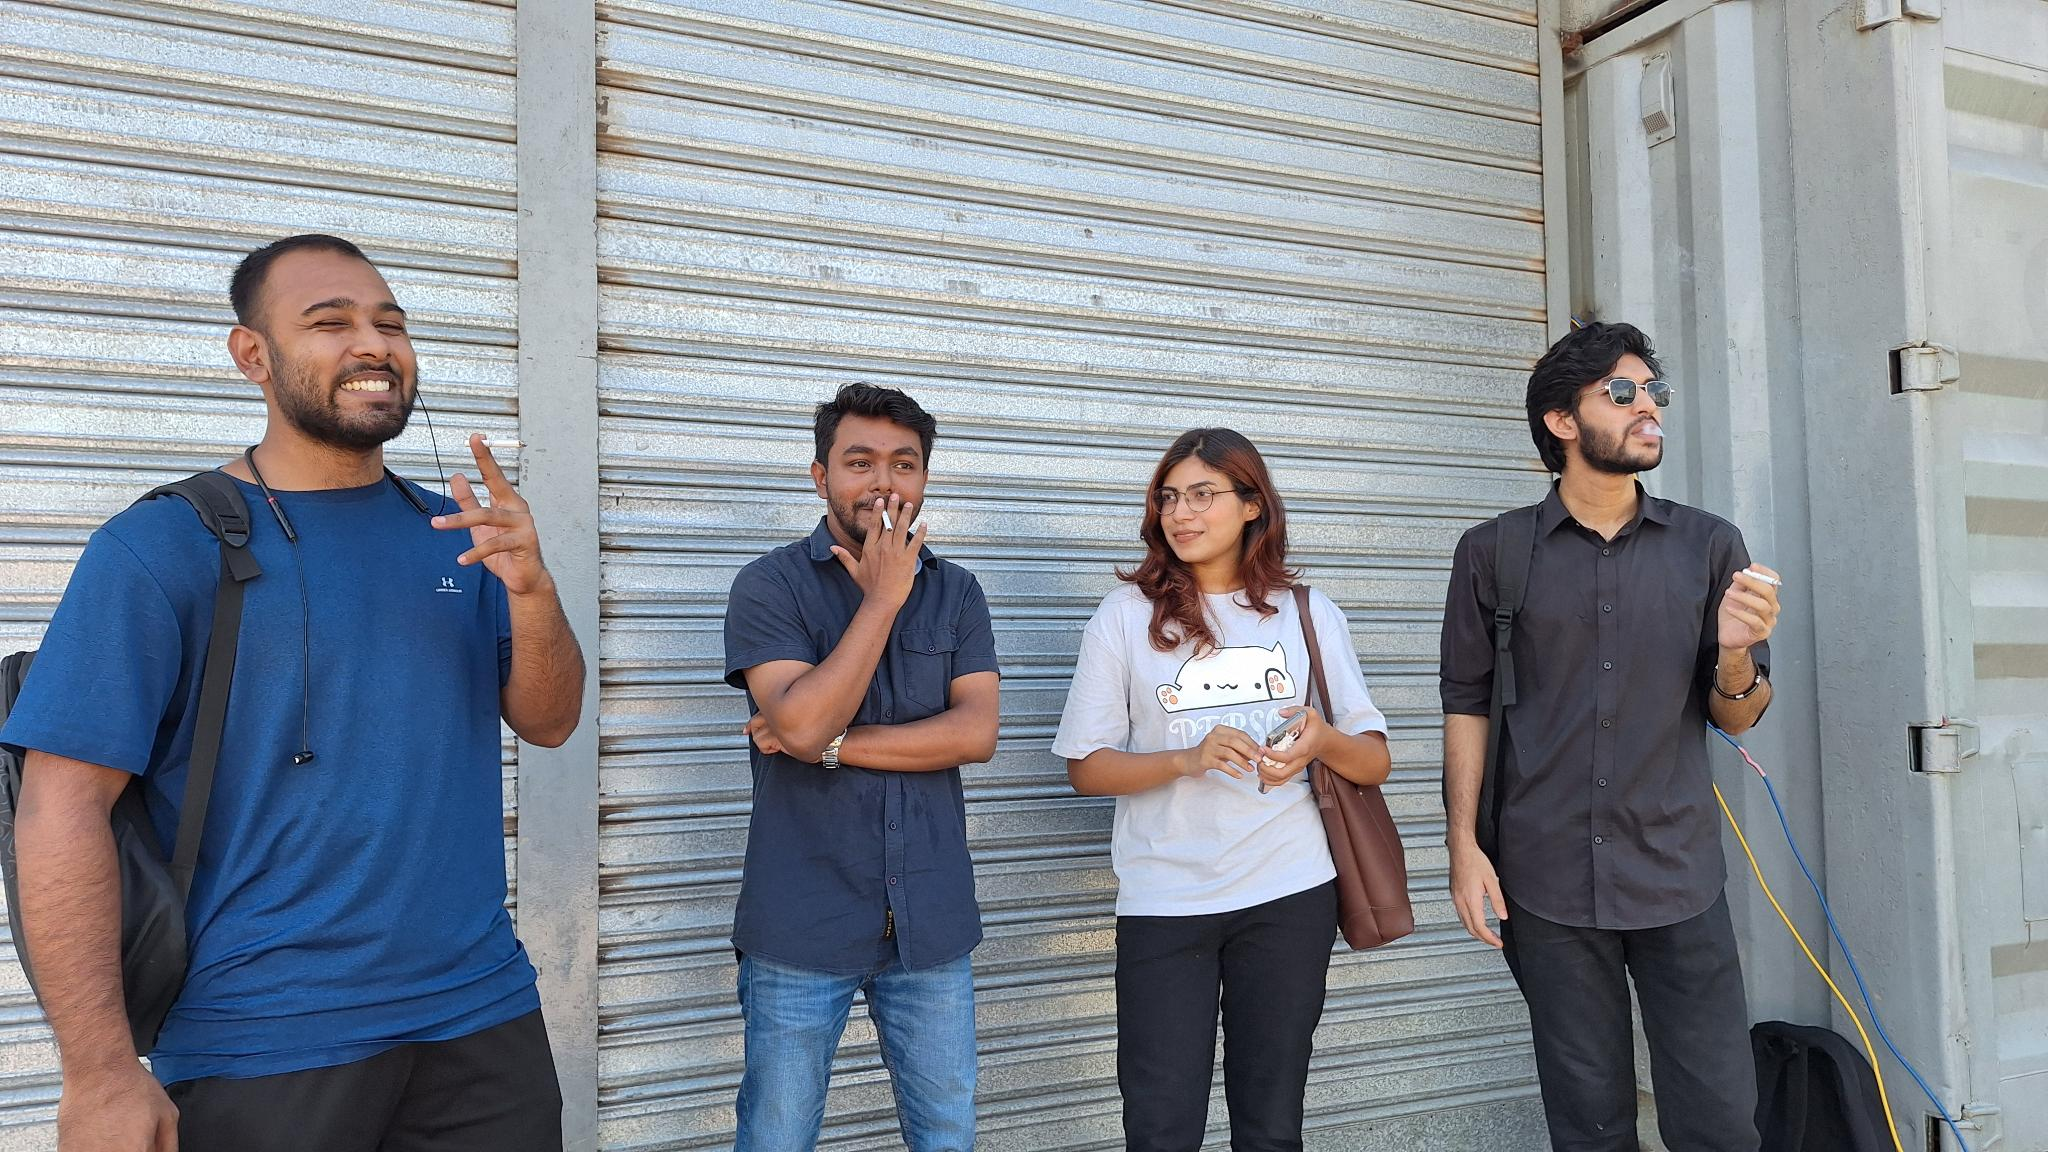cigarette: (463, 436, 532, 452), (1741, 567, 1784, 588), (881, 508, 895, 535)
nonSmoker: (1049, 428, 1415, 1152)
smoker: (0, 231, 588, 1152), (1439, 322, 1782, 1152), (723, 384, 1001, 1152)
